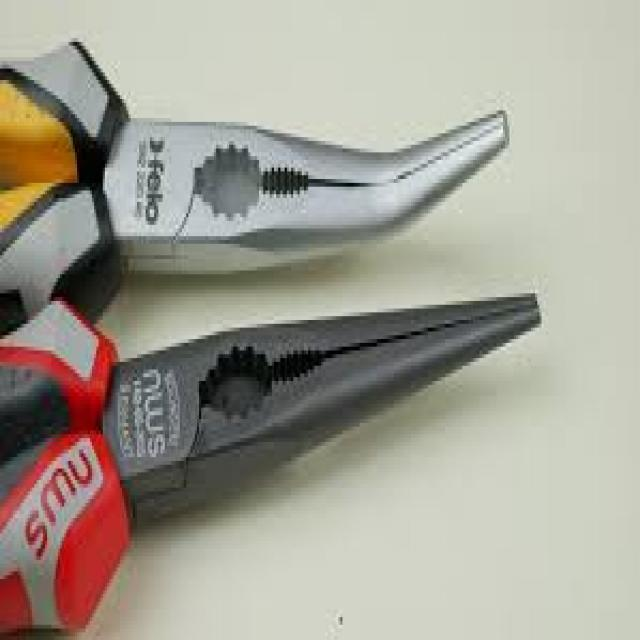pliers: (0, 262, 559, 610), (0, 34, 529, 278)
